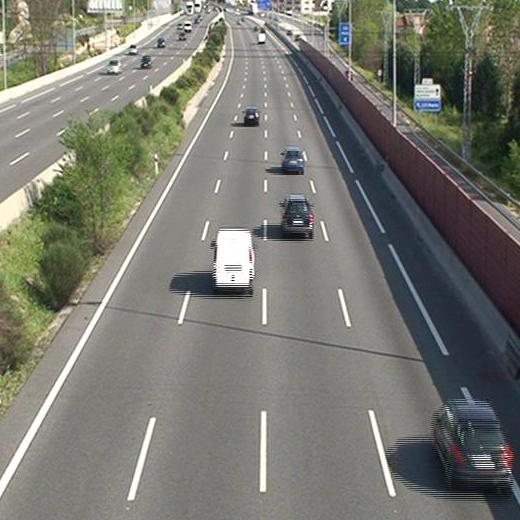car: (434, 404, 513, 484), (281, 197, 313, 232), (282, 148, 304, 171), (243, 108, 259, 124)
van: (213, 230, 253, 290)
